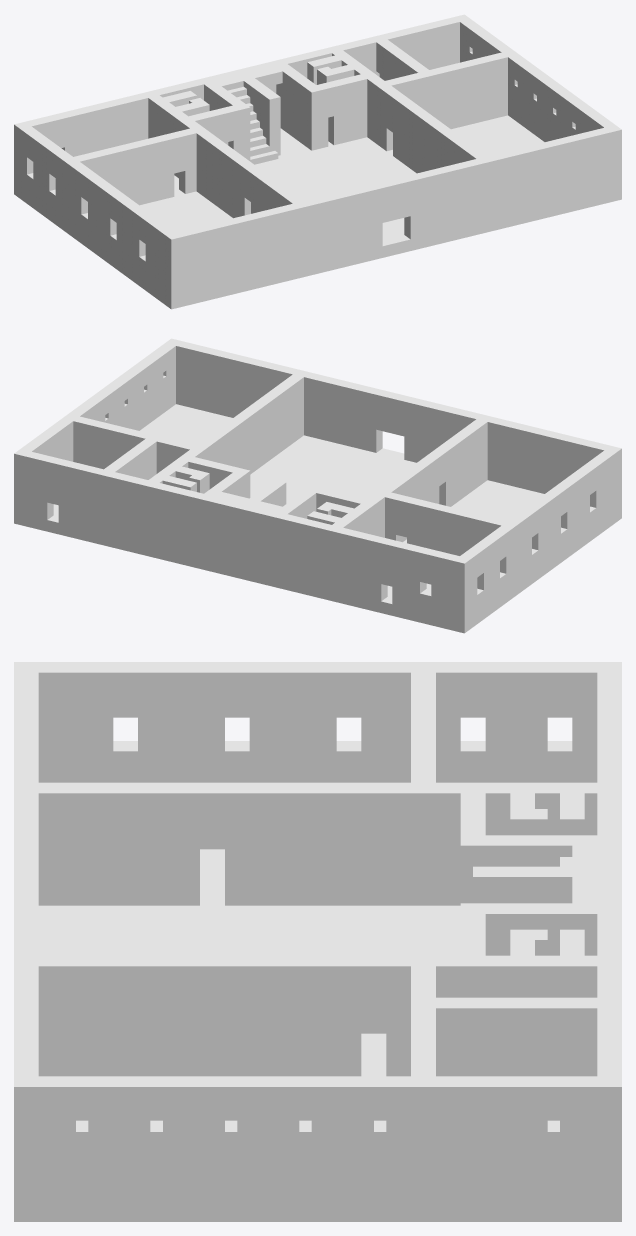
Rendered from convitto_.gltf.
3 renders of one model, top to bottom at view 1: azimuth 30°, elevation 25°; view 2: azimuth 150°, elevation 25°; view 3: azimuth 270°, elevation 25°, orthographic. The views are drawn at different scales.
Visible parts, largest first — view 1: Layer.2; view 2: Layer.2; view 3: Layer.2.
Part boxes in pixels (x1=…): Layer.2: x1=14, y1=14, x2=621, y2=309; Layer.2: x1=14, y1=338, x2=621, y2=633; Layer.2: x1=14, y1=662, x2=621, y2=1221.
Size of the model in its own units: 81 by 12 by 49.
1 material, 1 textured.
